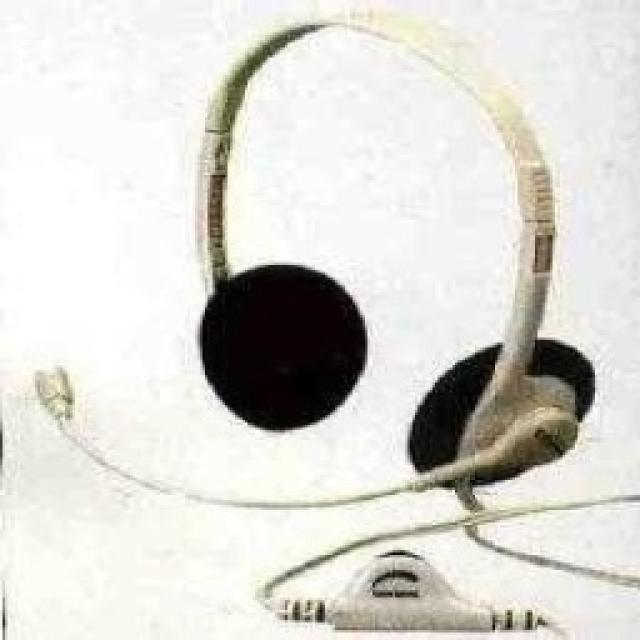kulaklik: (27, 11, 639, 639)
